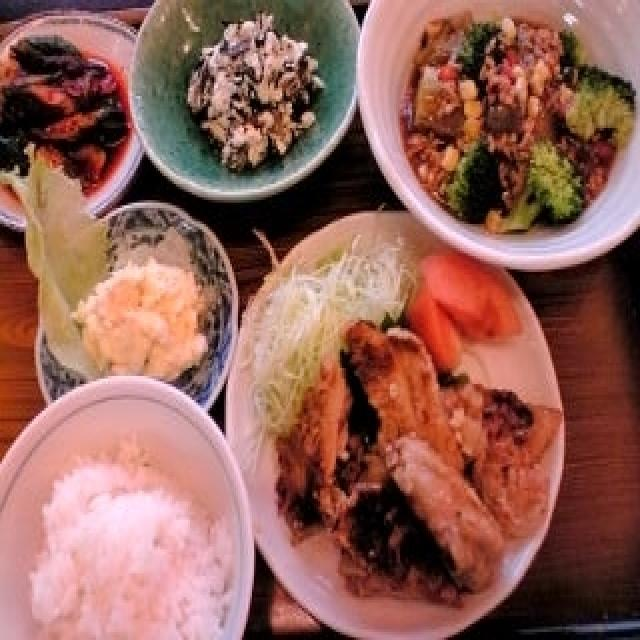米饭主食: (2, 384, 244, 635)
蔬菜料理: (64, 200, 240, 411)
